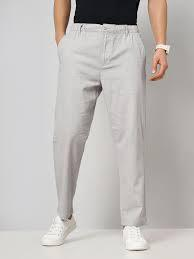trouser: (50, 20, 153, 229)
